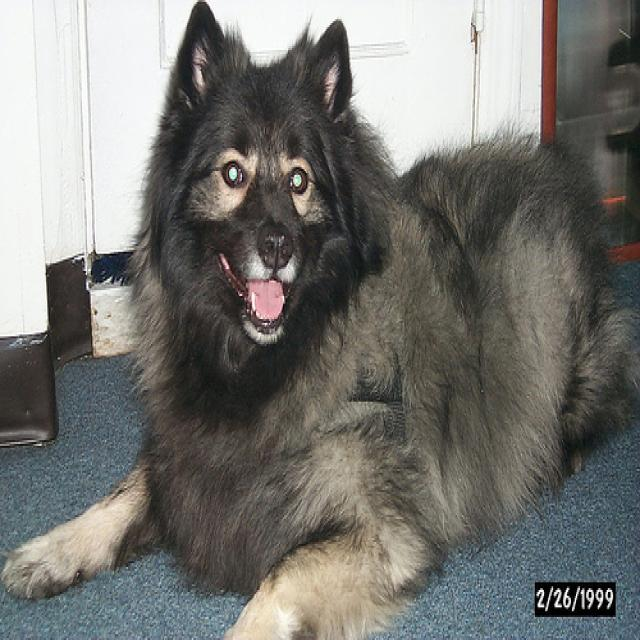dog-keeshond: (1, 2, 637, 636)
